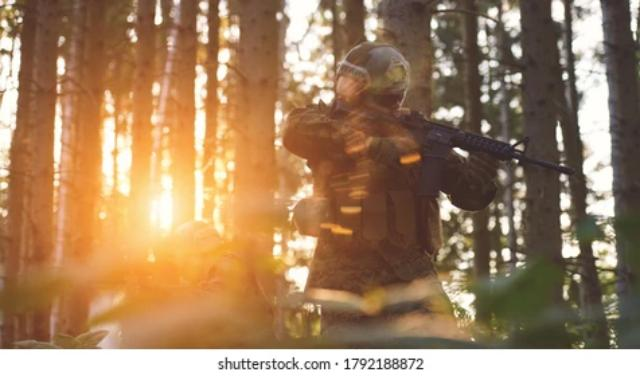other: (306, 49, 468, 329)
